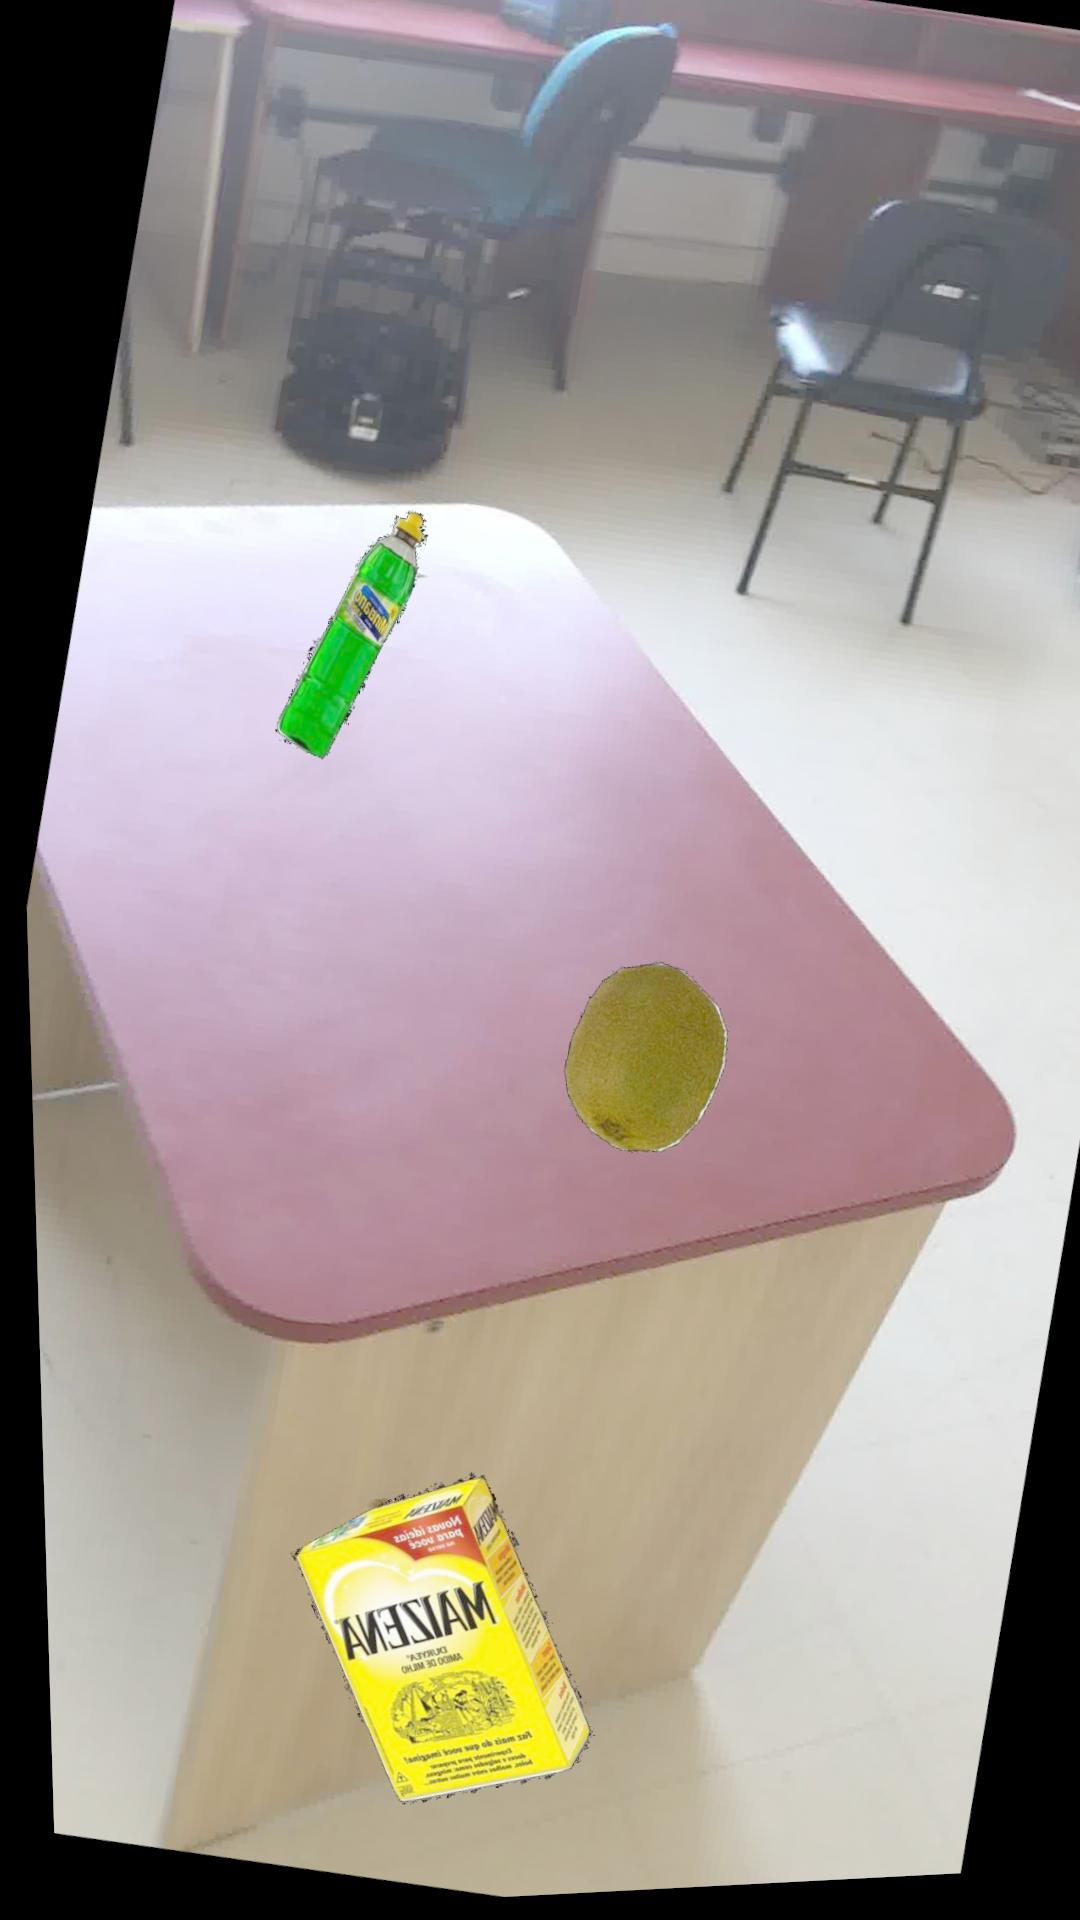cleaner: (269, 514, 423, 761)
kiwi: (555, 968, 720, 1158)
